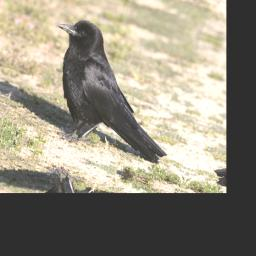Crow: (25, 11, 197, 173)
